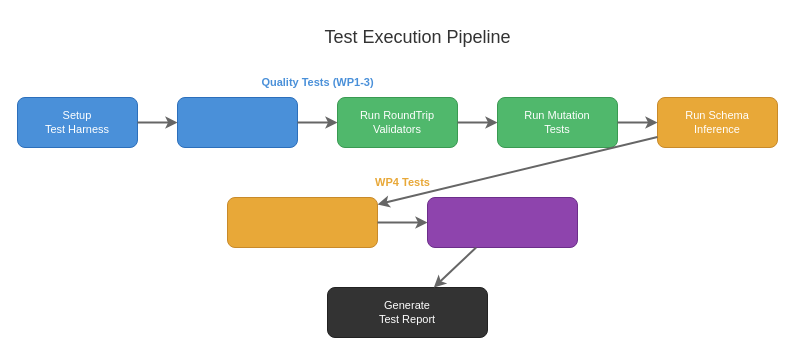
Image size: 795x355. Some labels were removed from this diagram. Here are the shapes that lost their labels. From the top down, the centre of each, then its label:
At (237,122): "Load Golden Dataset".
At (302,222): "Run Understanding Tests".
At (502,222): "Run Artifact Analyzer Tests".
